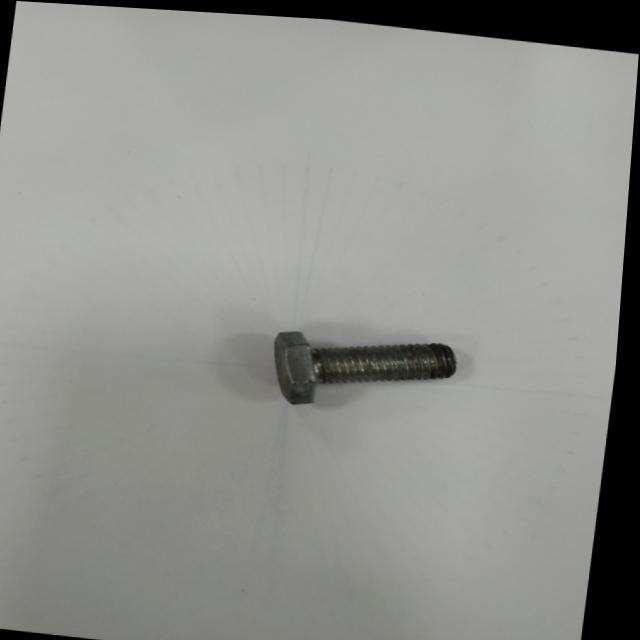Bolt: (279, 331, 463, 399)
